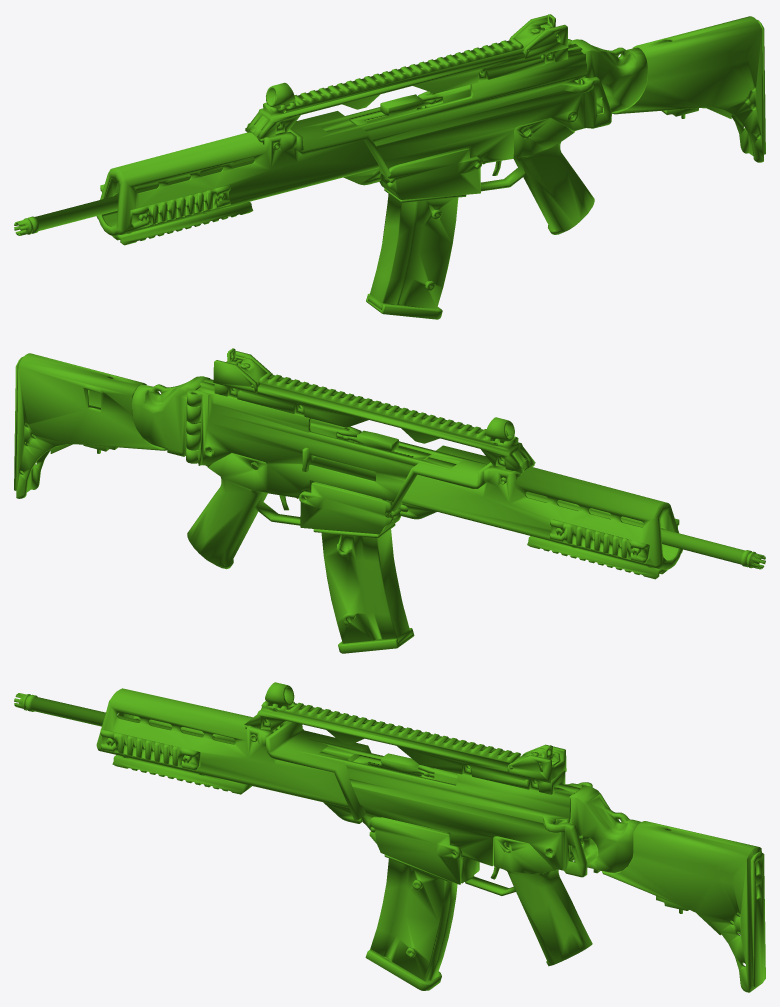
File: G36-Accurate_Version2_Test.obj
3 renders of one model, top to bottom at view 1: azimuth 30°, elevation 25°; view 2: azimuth 150°, elevation 25°; view 3: azimuth 330°, elevation 25°, orthographic.
Visible parts, largest first — view 1: solidname; view 2: solidname; view 3: solidname.
Part boxes in pixels (bbox=[...]): solidname: bbox=[14, 14, 765, 319]; solidname: bbox=[14, 348, 765, 653]; solidname: bbox=[14, 682, 765, 992].
Bounding box in the file's own units: 74.79 × 25.88 × 6.25.
